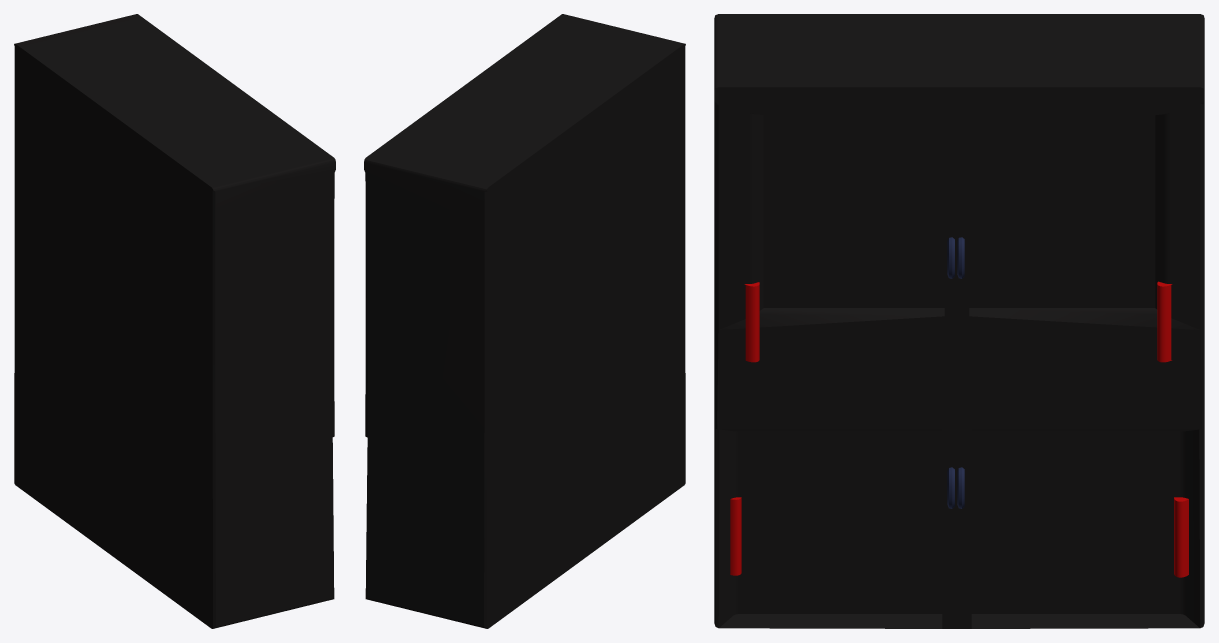
The model's file is Armario en substance para unity.fbx.
The picture shows the model from 3 angles, left to right: view 1: azimuth 30°, elevation 25°; view 2: azimuth 150°, elevation 25°; view 3: azimuth 270°, elevation 25°; orthographic projection. The views are drawn at different scales.
Visible parts, largest first — view 1: Armario:pCube1; view 2: Armario:pCube1; view 3: Armario:pCube1, Armario:pCylinder6, Armario:pCylinder5, Armario:pCylinder1, Armario:pCylinder2.
Part boxes in pixels (<box>): Armario:pCube1: <box>14,14,335,628</box>; Armario:pCube1: <box>364,14,685,628</box>; Armario:pCube1: <box>714,14,1204,628</box>; Armario:pCylinder6: <box>1174,497,1188,577</box>; Armario:pCylinder5: <box>1157,281,1172,362</box>; Armario:pCylinder1: <box>744,282,759,362</box>; Armario:pCylinder2: <box>730,497,741,575</box>.
Size of the model in its own units: 0.7099 by 2.26 by 1.85.
